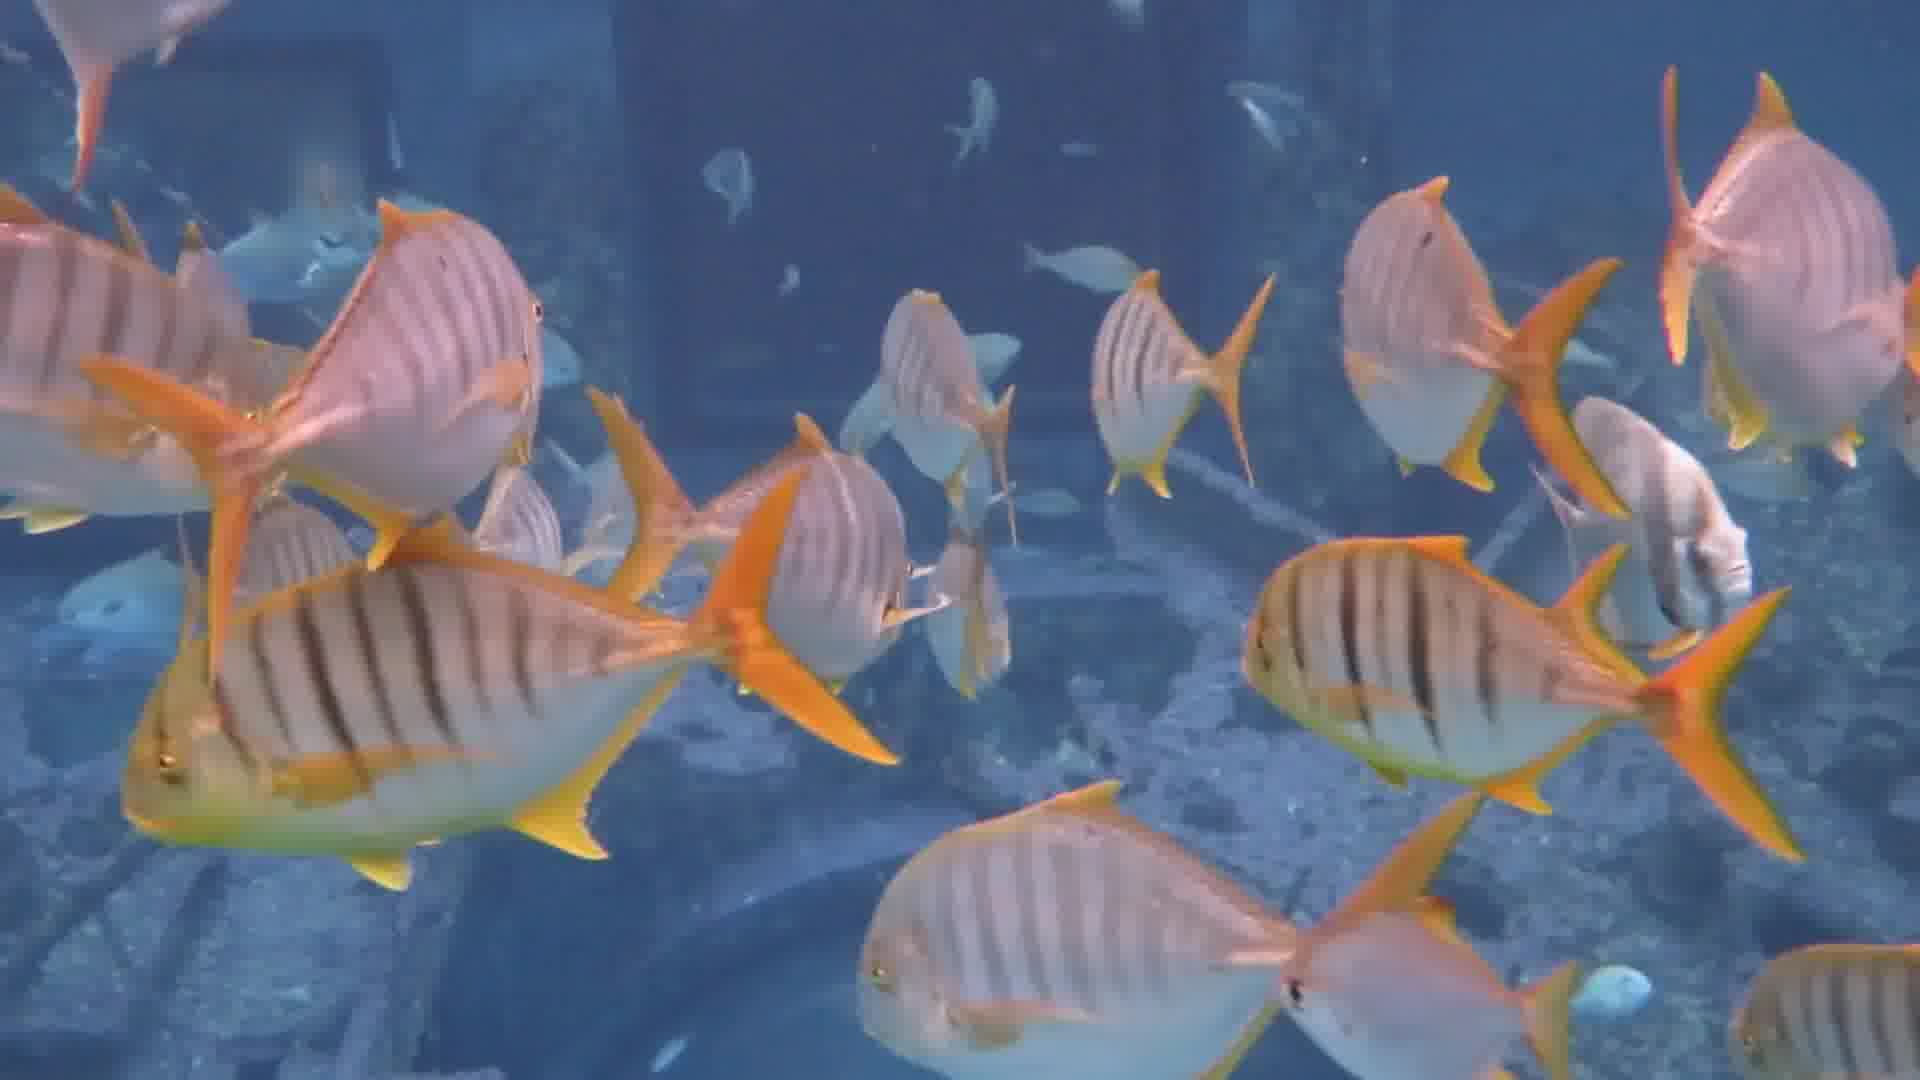Gnathanodon speciosus: (119, 480, 844, 905), (845, 791, 1427, 1047), (1218, 529, 1791, 754)
